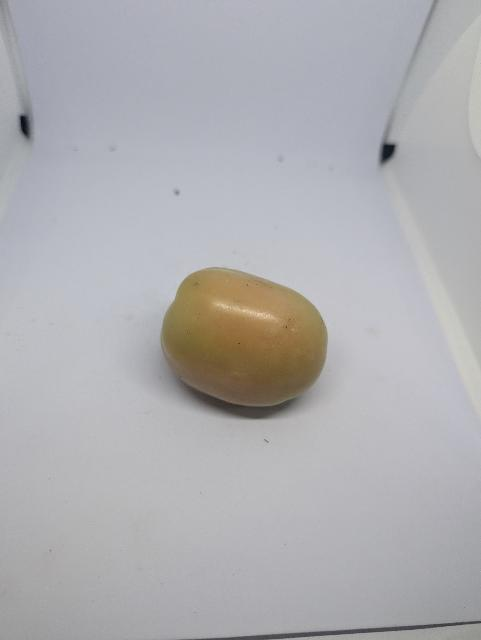turning: (157, 254, 346, 410)
